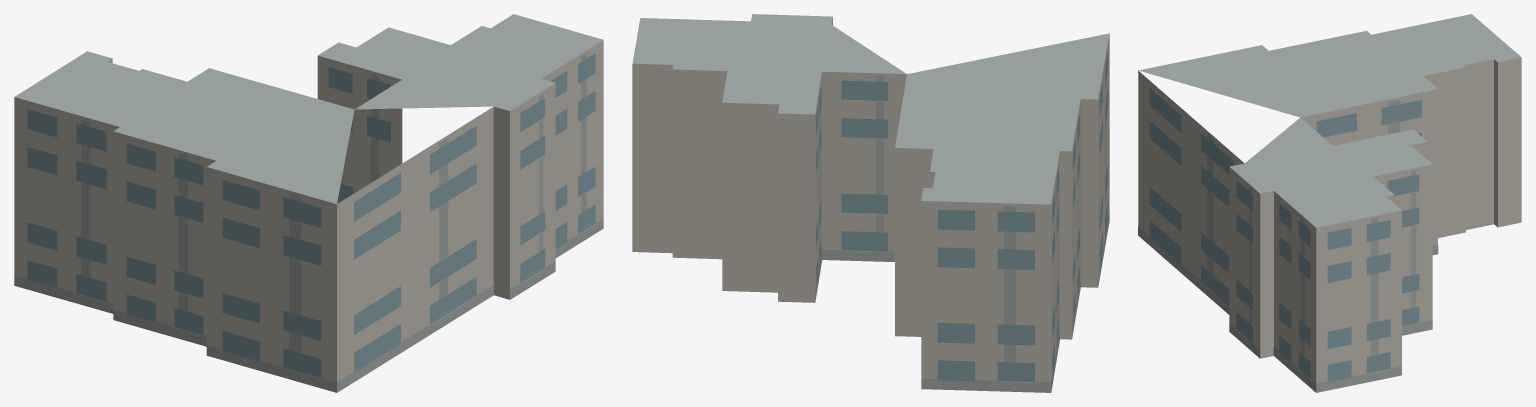
File: residential-005f4fa3-5c17-4b48-a74b-079af82c36b4.glb
The picture shows the model from 3 angles, left to right: view 1: azimuth 30°, elevation 25°; view 2: azimuth 150°, elevation 25°; view 3: azimuth 270°, elevation 25°; orthographic projection. The views are drawn at different scales.
Parts seen in each view (by area): view 1: residential-005f4fa3-5c17-4b48-a74b-079af82c36b4.tmp; view 2: residential-005f4fa3-5c17-4b48-a74b-079af82c36b4.tmp; view 3: residential-005f4fa3-5c17-4b48-a74b-079af82c36b4.tmp.
Boxes of the visible parts, bbox=[...] form: residential-005f4fa3-5c17-4b48-a74b-079af82c36b4.tmp: bbox=[14, 14, 603, 392]; residential-005f4fa3-5c17-4b48-a74b-079af82c36b4.tmp: bbox=[632, 14, 1109, 392]; residential-005f4fa3-5c17-4b48-a74b-079af82c36b4.tmp: bbox=[1138, 14, 1521, 392].
Size of the model in its own units: 42.35 by 15.25 by 32.12.
